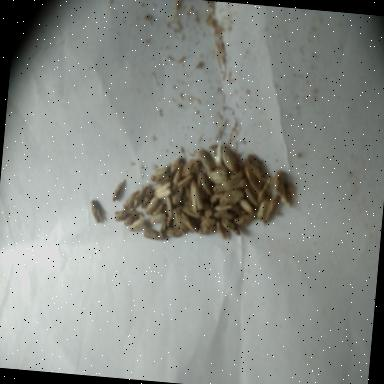pbw: (244, 154, 268, 180), (219, 146, 241, 174), (271, 170, 289, 204), (262, 194, 280, 226), (242, 164, 262, 192), (188, 180, 205, 212), (171, 205, 190, 233), (219, 188, 244, 206), (256, 194, 272, 222), (232, 211, 256, 229), (134, 184, 150, 210), (150, 164, 170, 184), (180, 212, 200, 232), (173, 172, 193, 192), (152, 180, 172, 200), (224, 176, 246, 194), (258, 174, 272, 202), (195, 172, 212, 195), (219, 219, 242, 236), (123, 188, 140, 211), (112, 177, 127, 203), (243, 186, 261, 207), (196, 150, 214, 170), (129, 215, 149, 233), (89, 199, 104, 223), (180, 160, 200, 178), (163, 196, 177, 220), (124, 210, 142, 228), (212, 142, 224, 169), (214, 220, 230, 240), (160, 216, 174, 238), (181, 204, 203, 218), (207, 168, 226, 184), (113, 209, 134, 223), (228, 168, 244, 186), (172, 162, 184, 186), (164, 225, 186, 238), (149, 211, 168, 226), (140, 189, 154, 209), (144, 196, 158, 216), (172, 185, 184, 207), (213, 209, 235, 221), (143, 229, 164, 241), (198, 225, 218, 237), (152, 200, 167, 216), (238, 199, 254, 214), (213, 202, 236, 212), (208, 192, 224, 206), (202, 200, 214, 218), (170, 158, 181, 176), (200, 218, 216, 228)
